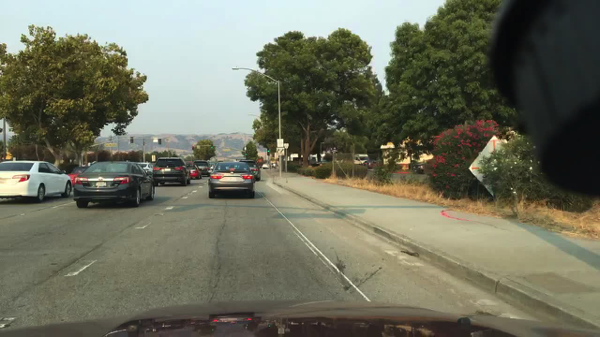bus: (269, 157, 279, 166)
car: (73, 160, 153, 209), (0, 161, 72, 204), (208, 161, 255, 198), (153, 158, 191, 186), (238, 159, 261, 181), (65, 166, 88, 187), (135, 162, 154, 182), (190, 160, 209, 176), (185, 164, 202, 180), (411, 162, 425, 174), (354, 154, 369, 164), (207, 162, 217, 176), (362, 161, 375, 166), (184, 161, 193, 167), (310, 162, 323, 166), (261, 163, 271, 168)
person: (273, 162, 276, 168), (271, 162, 274, 168)
traffic light: (6, 154, 13, 160), (129, 137, 134, 143), (158, 139, 162, 145), (191, 145, 195, 151), (210, 144, 213, 149), (245, 152, 248, 157), (267, 148, 269, 155)
traffic sign: (468, 136, 511, 201), (275, 147, 286, 155), (105, 143, 118, 147), (277, 139, 283, 147), (283, 143, 290, 148), (151, 154, 155, 161), (153, 138, 158, 143), (196, 145, 201, 149), (274, 153, 279, 157), (243, 147, 247, 151), (13, 157, 16, 162)
